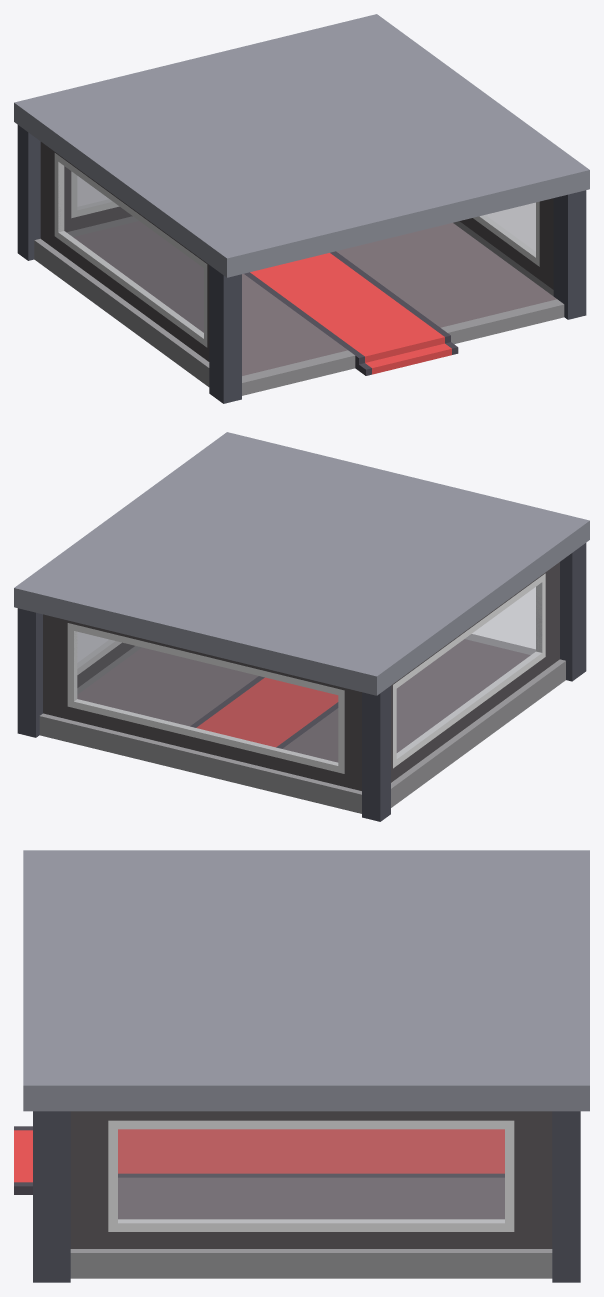
Rendered from house.fbx.
3 renders of one model, top to bottom at view 1: azimuth 30°, elevation 25°; view 2: azimuth 150°, elevation 25°; view 3: azimuth 270°, elevation 25°, orthographic. The views are drawn at different scales.
Visible parts, largest first — view 1: house; view 2: house; view 3: house.
Boxes of the visible parts, left/top/right/bottom form: house: left=14, top=14, right=589, bottom=403; house: left=14, top=432, right=589, bottom=821; house: left=14, top=850, right=589, bottom=1282.
Bounding box in the file's own units: 5900 × 2300 × 6100.
